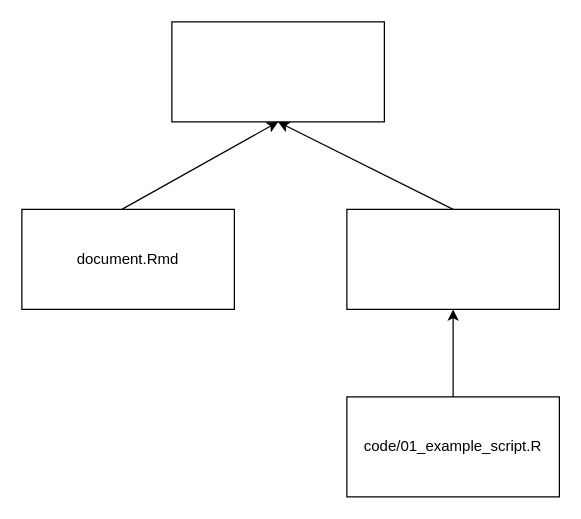
Some shapes in this 581 by 519 pixel diagram are drawn without their labels. Each missing label, with the centre of its shape:
"data/cars.csv" goes at (x=452, y=258).
"document.pdf" goes at (x=277, y=71).
